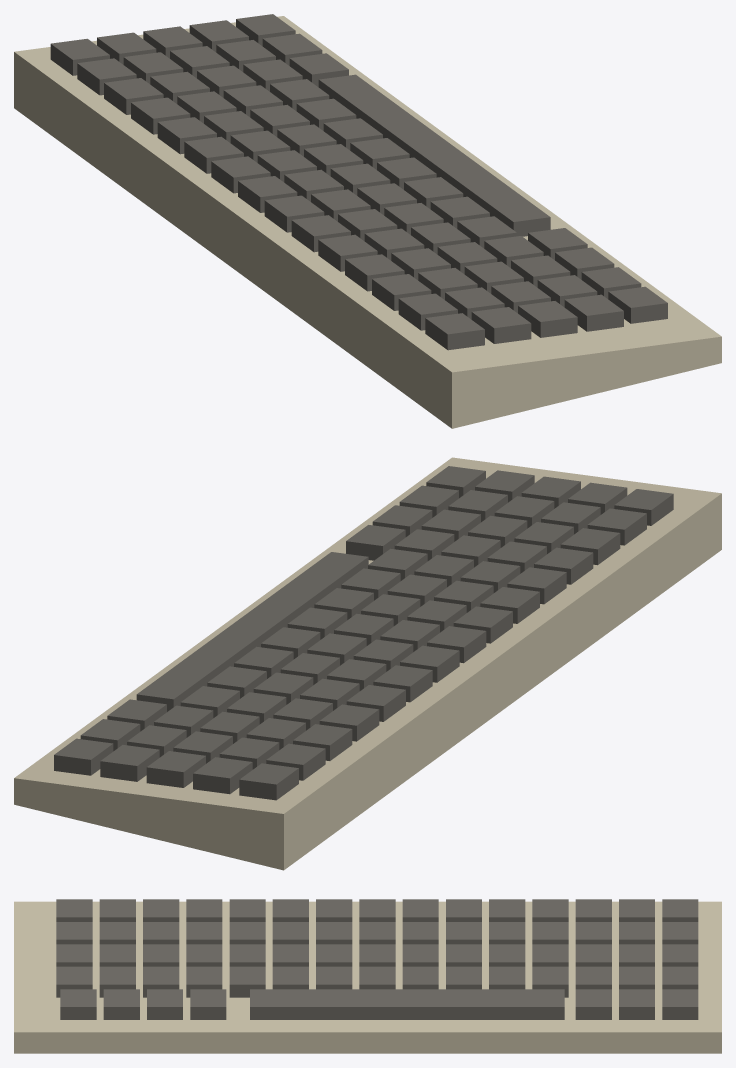
File: Keyboard.gltf
3 renders of one model, top to bottom at view 1: azimuth 30°, elevation 25°; view 2: azimuth 150°, elevation 25°; view 3: azimuth 270°, elevation 25°, orthographic. The views are drawn at different scales.
Parts seen in each view (by area): view 1: Keyboard; view 2: Keyboard; view 3: Keyboard.
Part boxes in pixels (x1,y1,x2,y2): Keyboard: (14, 14, 721, 428); Keyboard: (14, 457, 721, 870); Keyboard: (14, 899, 721, 1053).
Bounding box in the file's own units: 0.16 × 0.0396 × 0.45.
